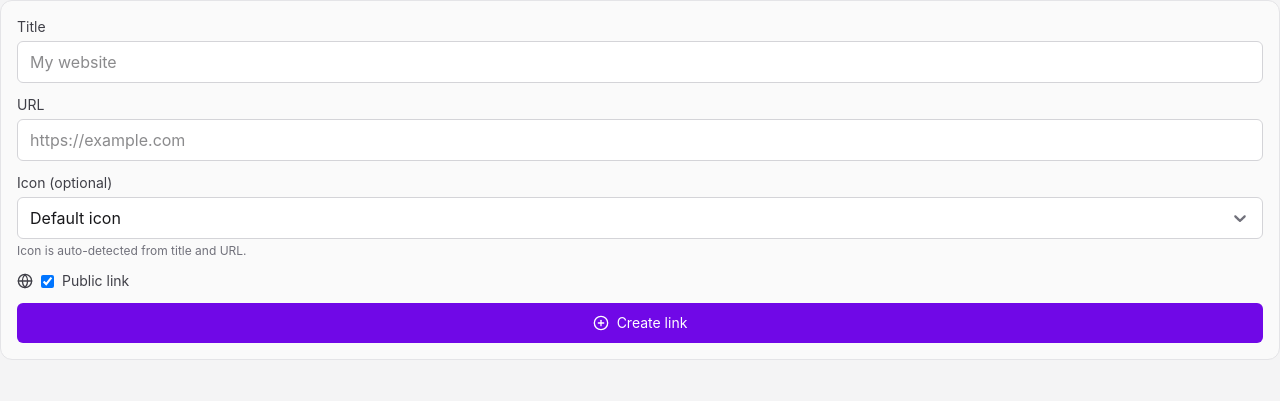
Scenario: DashboardLinkForm validation › rejects a URL that is not a URL
Step 1. Type "My site" into the field labelled "Title" → (640, 62), box [17,41,1263,83]
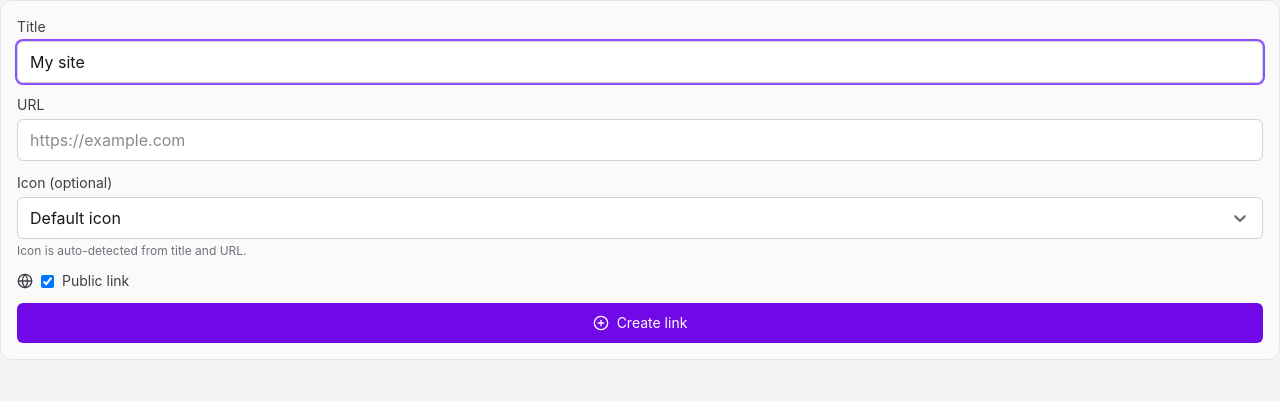
Step 2. Type "not-a-url" into the field labelled "URL" → (640, 140), box [17,119,1263,161]
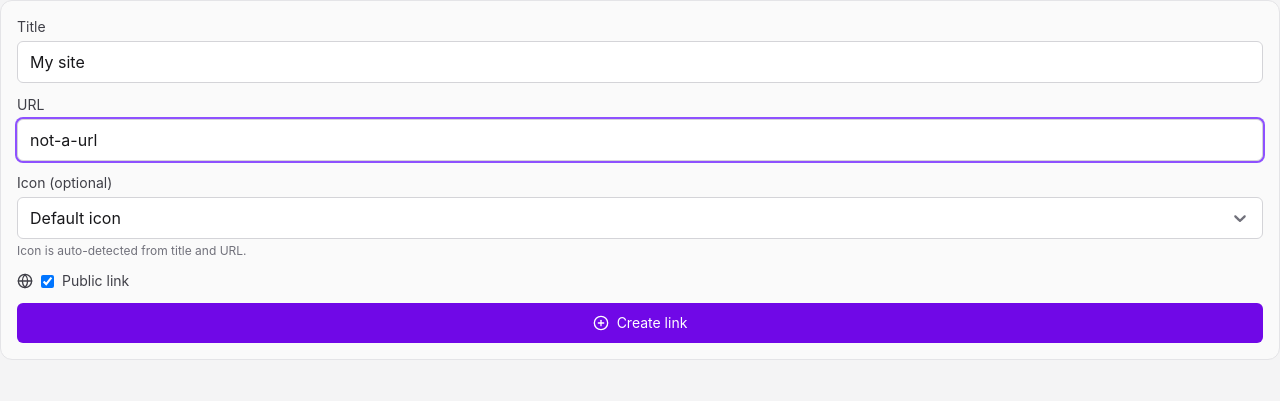
Step 3. Click the button "Create link" → (640, 323), box [17,303,1263,343]
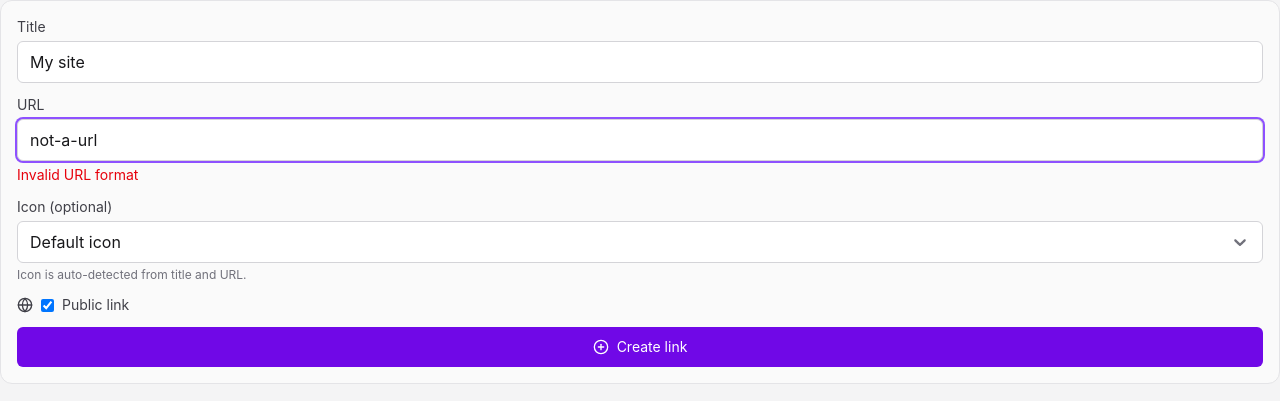
Expected: the text "Invalid URL format" is shown, [17,166,138,183]
